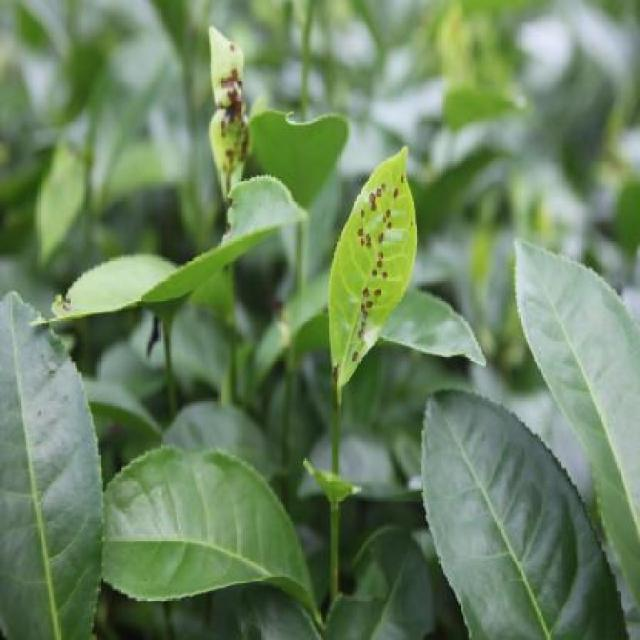Tea Mosquito bug infested leaf: (326, 137, 420, 391), (202, 28, 258, 218)
